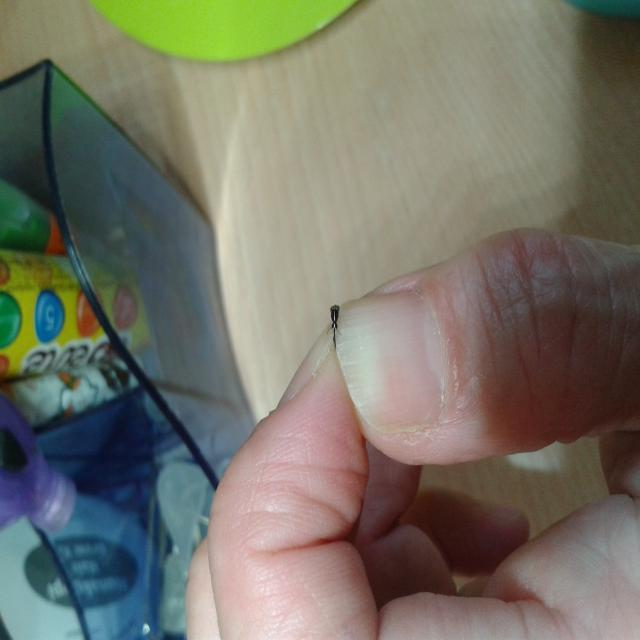albopictus: (327, 303, 342, 347)
